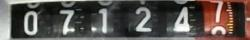digits: (134, 6, 152, 32), (173, 6, 191, 32), (58, 9, 75, 34), (23, 11, 38, 35), (210, 0, 223, 22), (98, 7, 107, 33)
